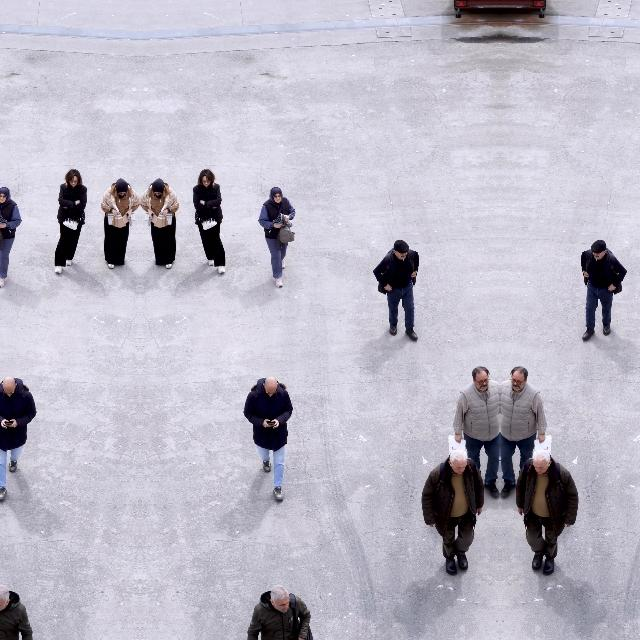person: (420, 452, 484, 576), (516, 452, 580, 576), (452, 366, 500, 498), (500, 366, 548, 498), (243, 376, 293, 502), (372, 239, 420, 341), (580, 239, 628, 341), (0, 376, 37, 502), (258, 186, 296, 288), (247, 584, 313, 640), (140, 178, 180, 270), (100, 178, 140, 270), (192, 168, 226, 274), (54, 168, 88, 274), (0, 186, 22, 287), (0, 584, 33, 639)
